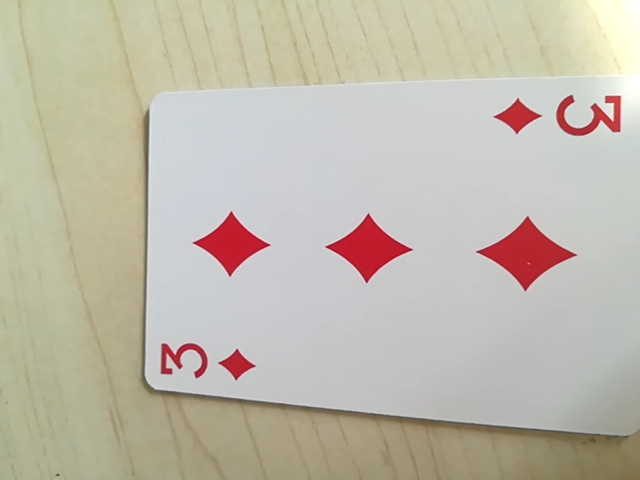fk 3: (499, 89, 627, 145), (154, 331, 263, 391)
